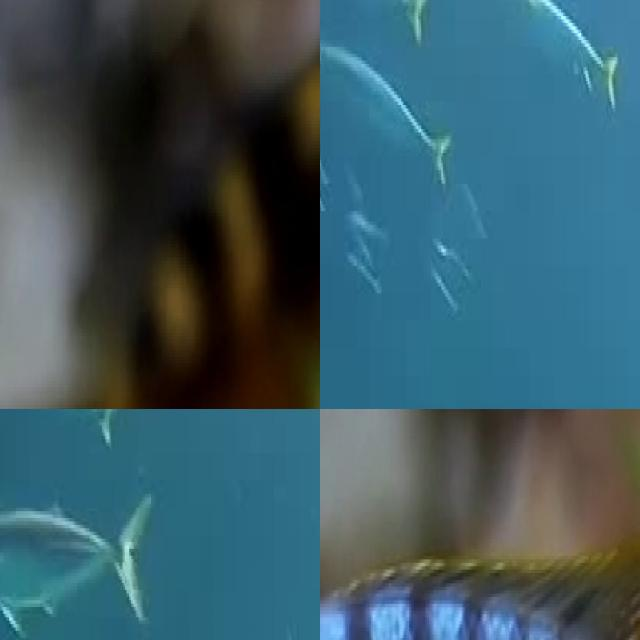fish: (0, 0, 320, 409), (320, 508, 640, 640)
